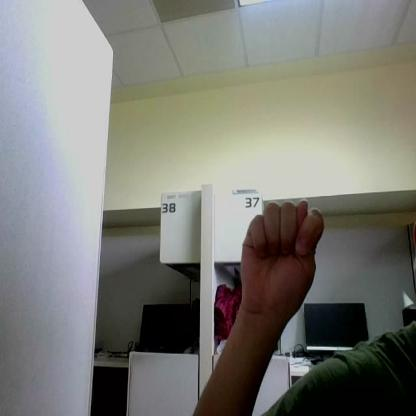T: (242, 200, 324, 310)
